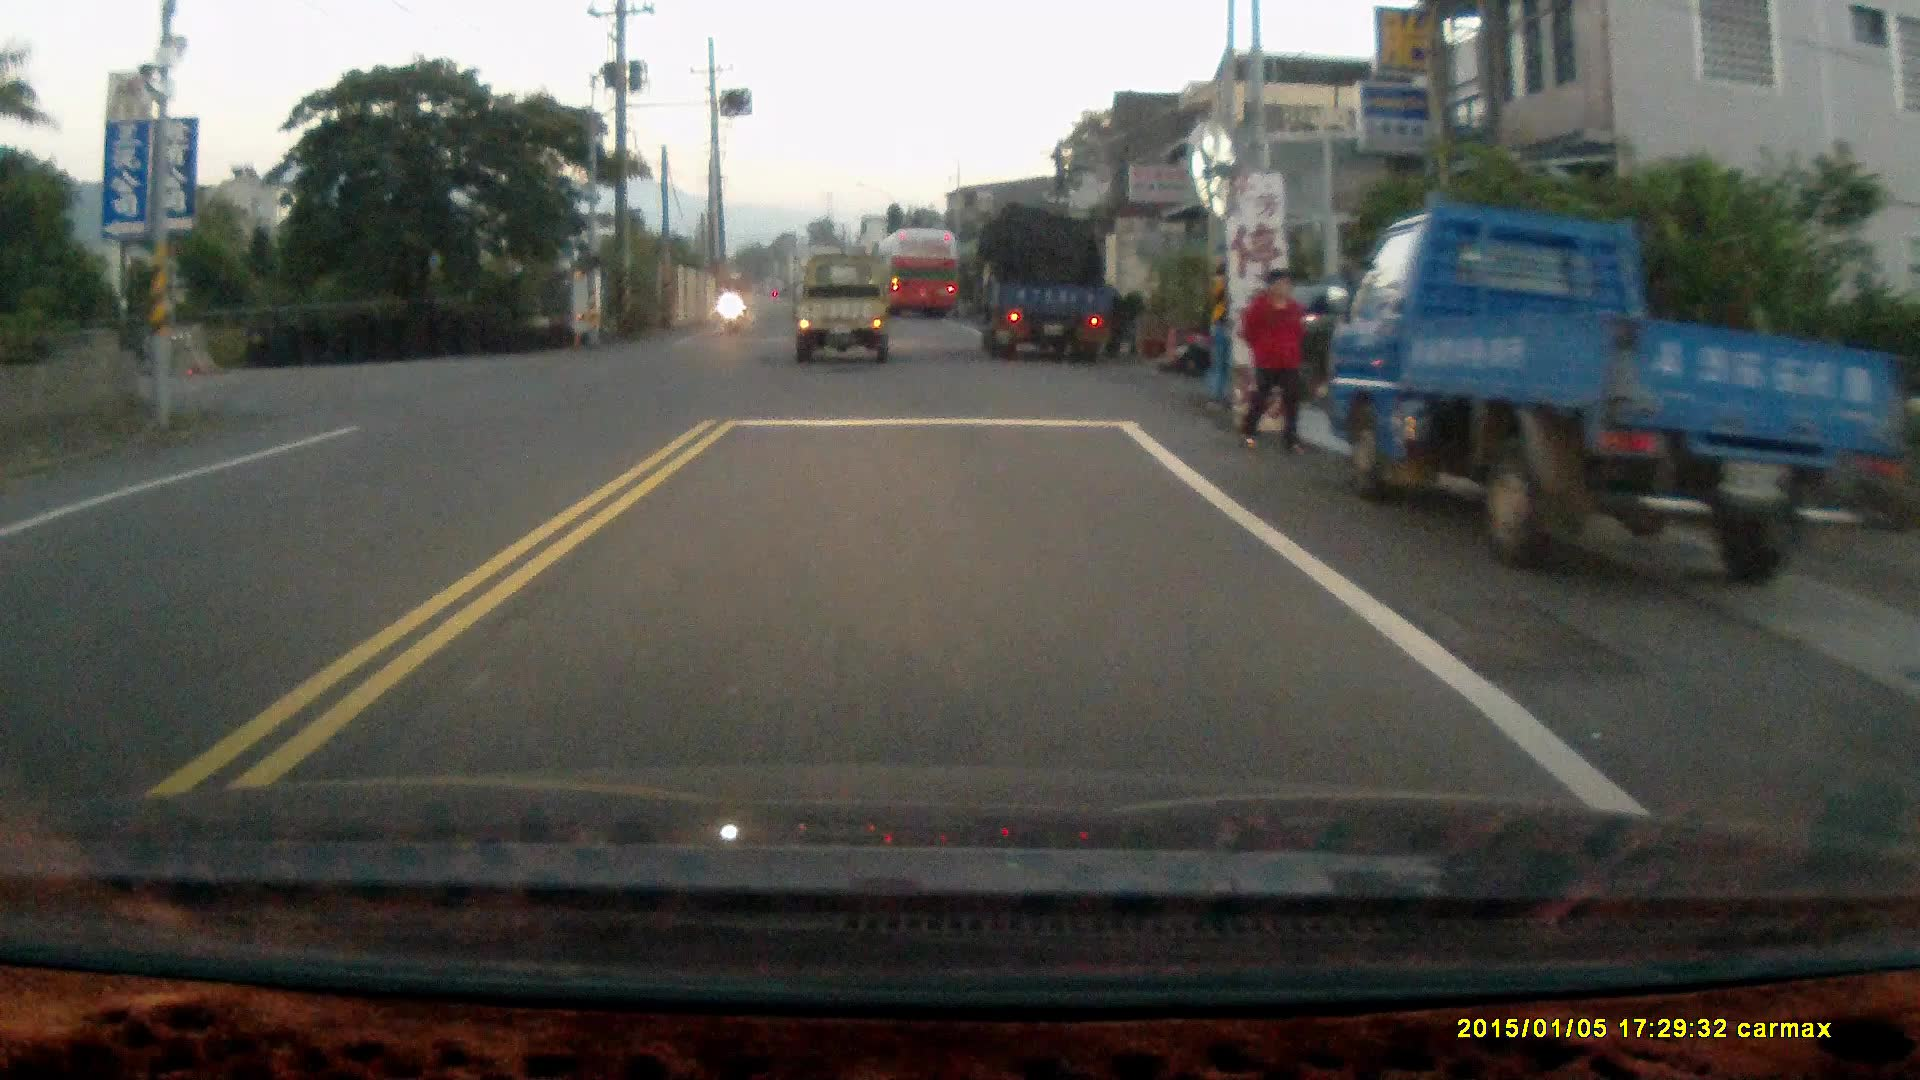pedestrian: (1231, 267, 1311, 462)
rider: (717, 273, 745, 335)
vehicle: (1331, 201, 1908, 582), (982, 216, 1135, 381), (799, 259, 896, 374), (878, 228, 965, 325)
